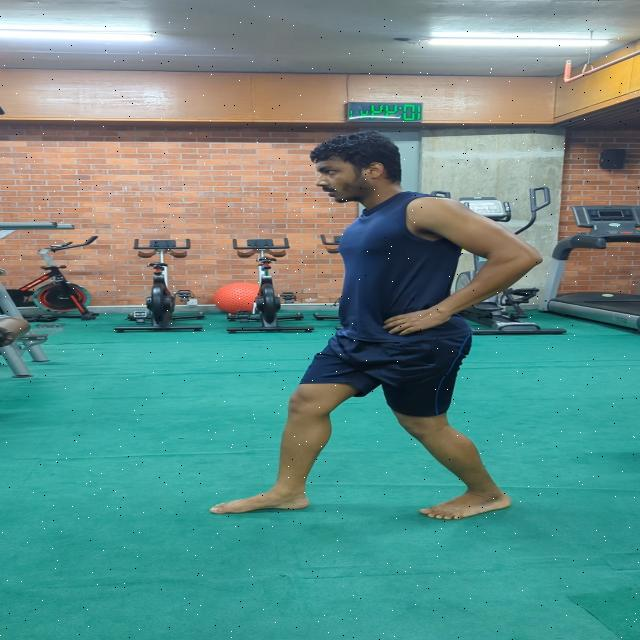Normal_Lunges: (198, 128, 558, 528)
